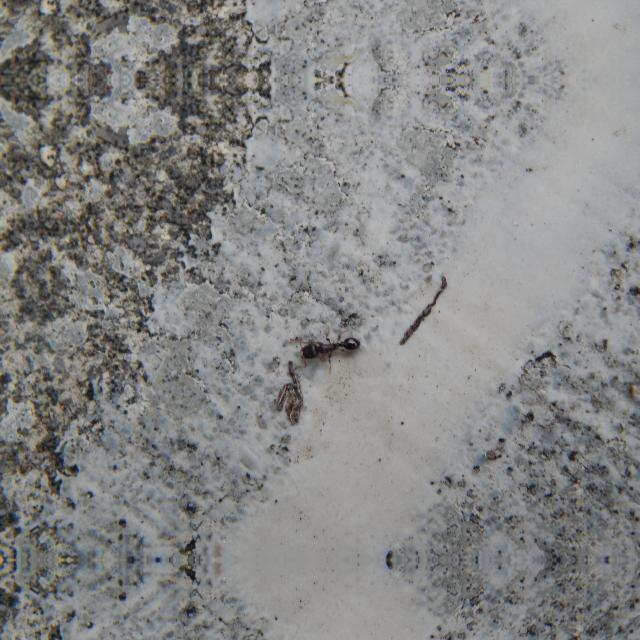Tetramorium: (290, 326, 366, 374)
